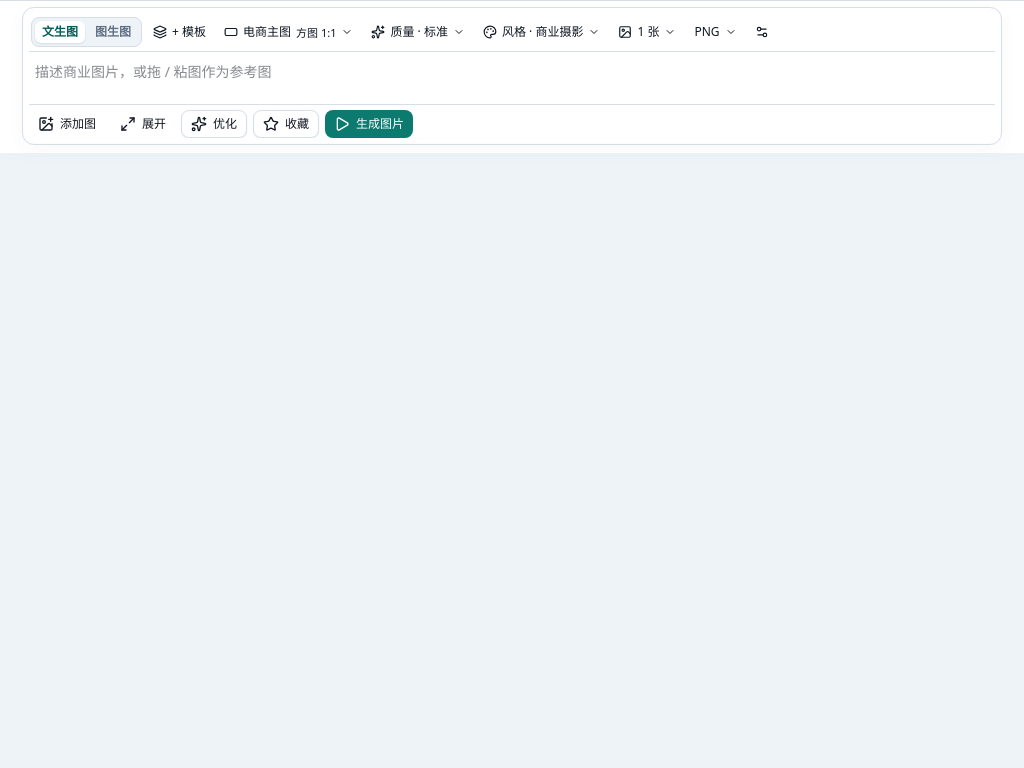
Test: Composer prompt input upgrade › Modal 编辑后保存写回 prompt
Click the button with test id "composer-expand-trigger" at (143, 124), box [111,110,175,138]
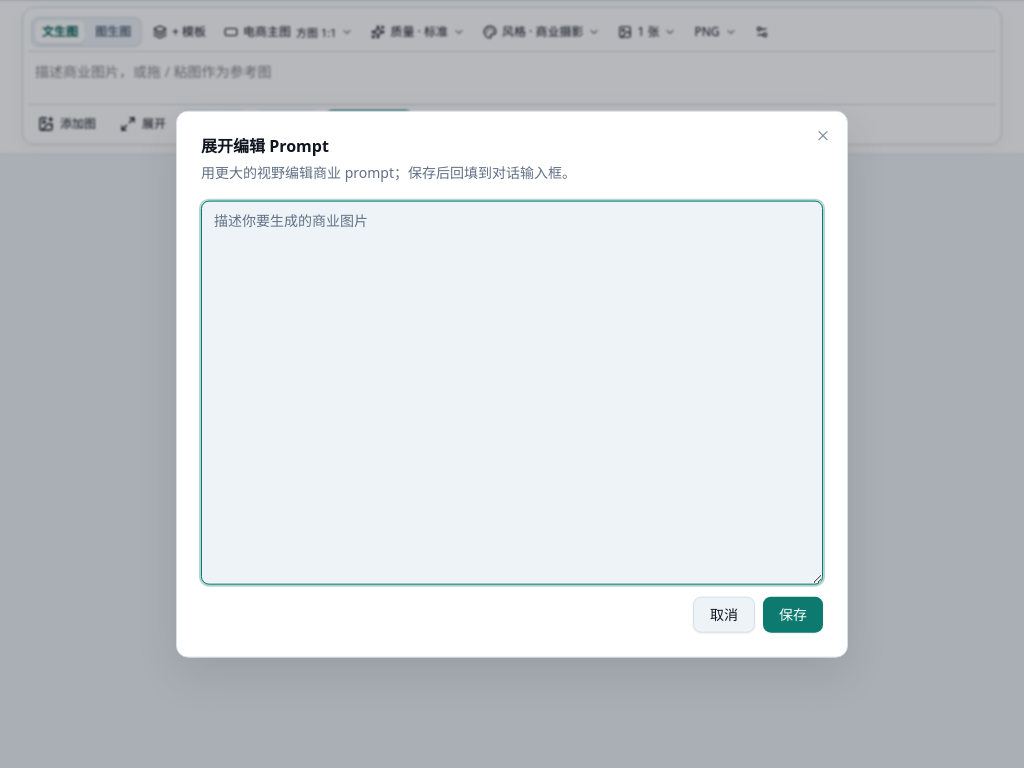
Type "long商业 prompt" into the text box with test id "prompt-expanded-textarea" at (512, 392), box [201,200,823,584]
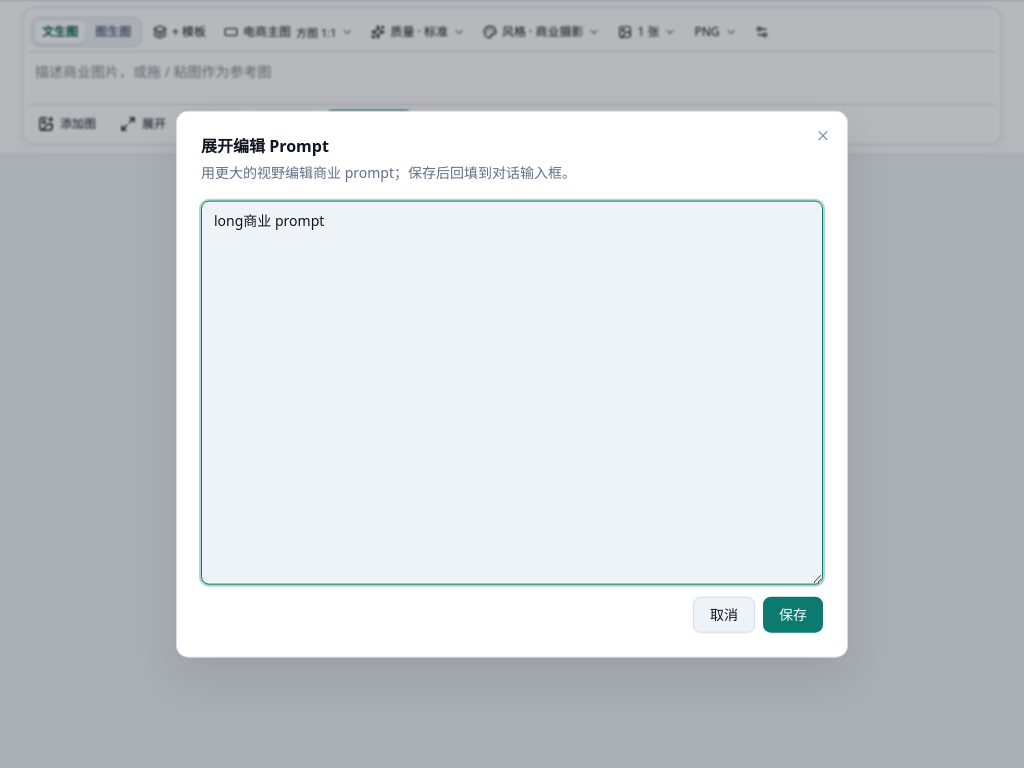
Click the button with test id "prompt-expanded-submit" at (793, 614), box [763,596,823,632]
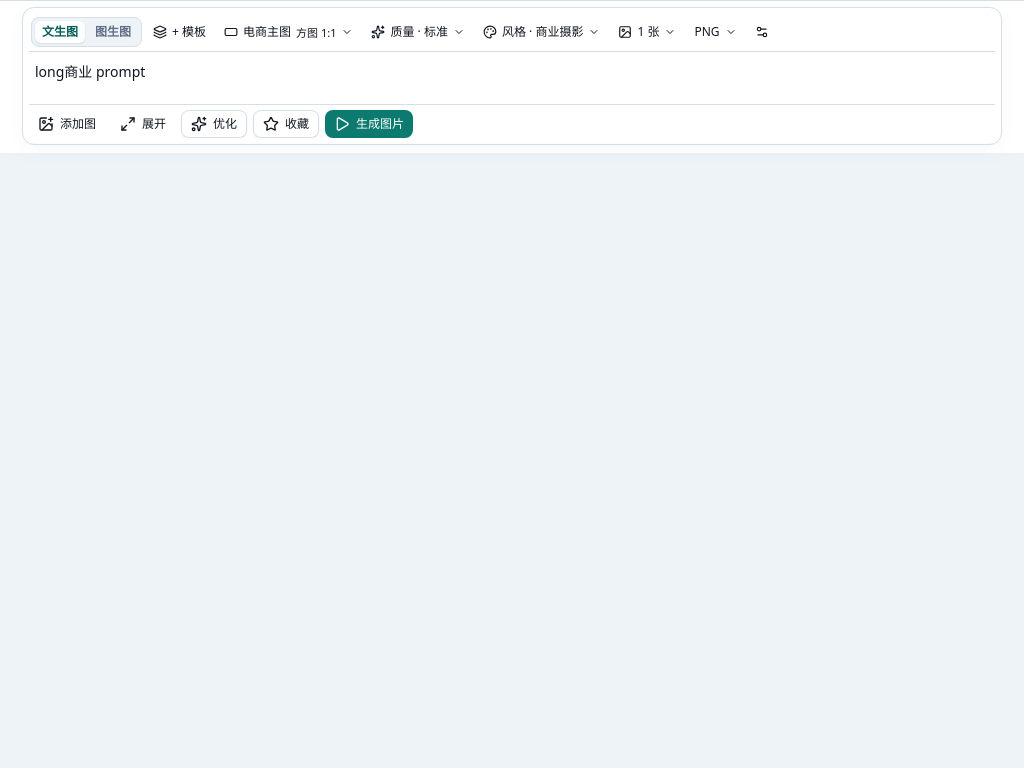
Now the dialog with test id "prompt-expanded-dialog" is gone
Now the text box named "Prompt" holds "long商业 prompt", box [29,55,995,97]
